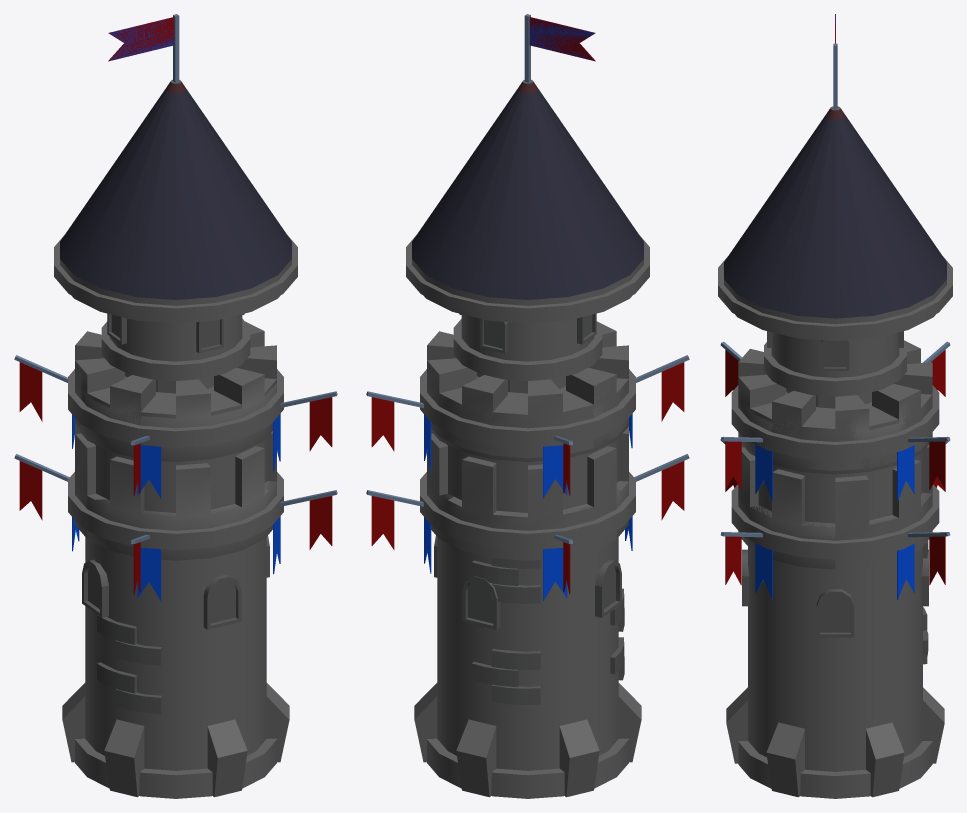
File: Towers.fbx
The picture shows the model from 3 angles, left to right: view 1: azimuth 30°, elevation 25°; view 2: azimuth 150°, elevation 25°; view 3: azimuth 270°, elevation 25°; orthographic projection. The views are drawn at different scales.
Visible parts, largest first — view 1: Tower_01_BlueFlag, Tower_01, Tower_01_RedFlag, Tower_02, Brick1 (×2), Brick2 (×2); view 2: Tower_01_BlueFlag, Tower_02, Tower_01_RedFlag, Tower_01, Brick5 (×2), Brick3 (×2), Brick4; view 3: Tower_01_BlueFlag, Tower_02, Tower_01, Tower_01_RedFlag.
Part boxes in pixels (left/top/right/bottom): Tower_01_BlueFlag: left=54, top=14, right=297, bottom=797; Tower_01: left=14, top=426, right=337, bottom=798; Tower_01_RedFlag: left=14, top=14, right=337, bottom=786; Tower_02: left=62, top=431, right=289, bottom=797; Brick1 (×2): left=115, top=640, right=161, bottom=714; Brick2 (×2): left=97, top=615, right=136, bottom=693; Tower_01_BlueFlag: left=406, top=14, right=649, bottom=798; Tower_02: left=414, top=431, right=641, bottom=798; Tower_01_RedFlag: left=366, top=14, right=689, bottom=788; Tower_01: left=366, top=426, right=689, bottom=780; Brick5 (×2): left=491, top=583, right=540, bottom=704; Brick3 (×2): left=471, top=560, right=518, bottom=687; Brick4: left=491, top=649, right=540, bottom=669; Tower_01_BlueFlag: left=718, top=14, right=952, bottom=798; Tower_02: left=726, top=447, right=944, bottom=797; Tower_01: left=720, top=436, right=950, bottom=798; Tower_01_RedFlag: left=720, top=14, right=950, bottom=795.
Size of the model in its own units: 8.82 by 29.1 by 8.69.
